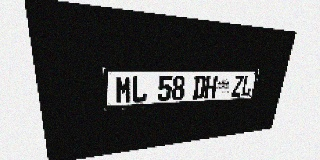5: (158, 76, 173, 101)
8: (171, 75, 186, 101)
D: (192, 75, 206, 99)
H: (204, 75, 218, 99)
L: (132, 76, 147, 103), (240, 75, 254, 96)
M: (115, 76, 132, 104)
Z: (231, 75, 244, 97)
